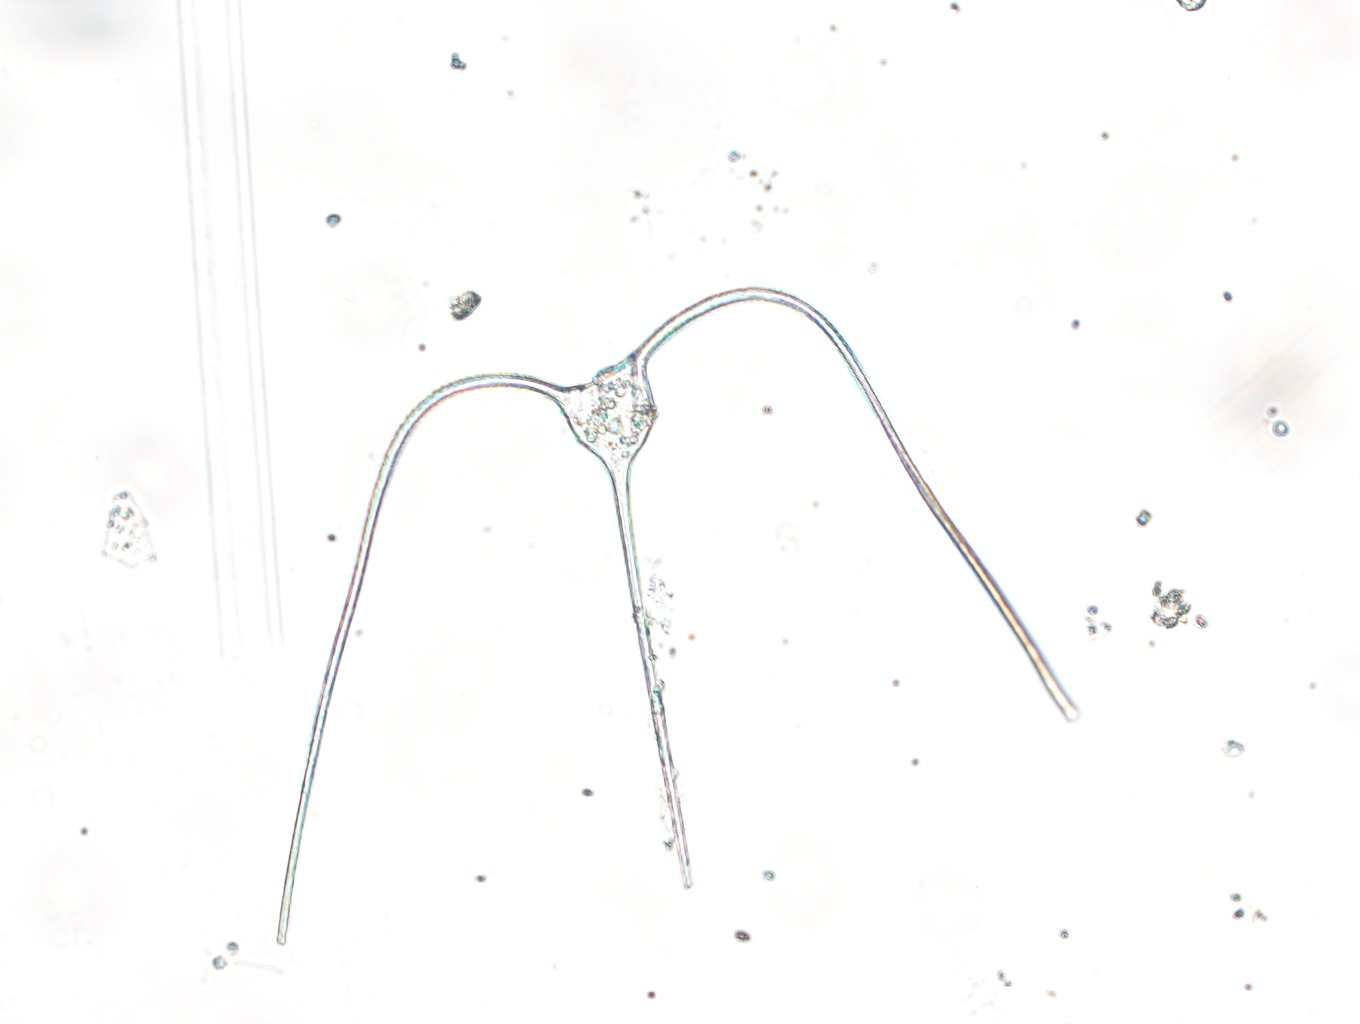ceratium trichoceros: (275, 284, 1085, 951)
